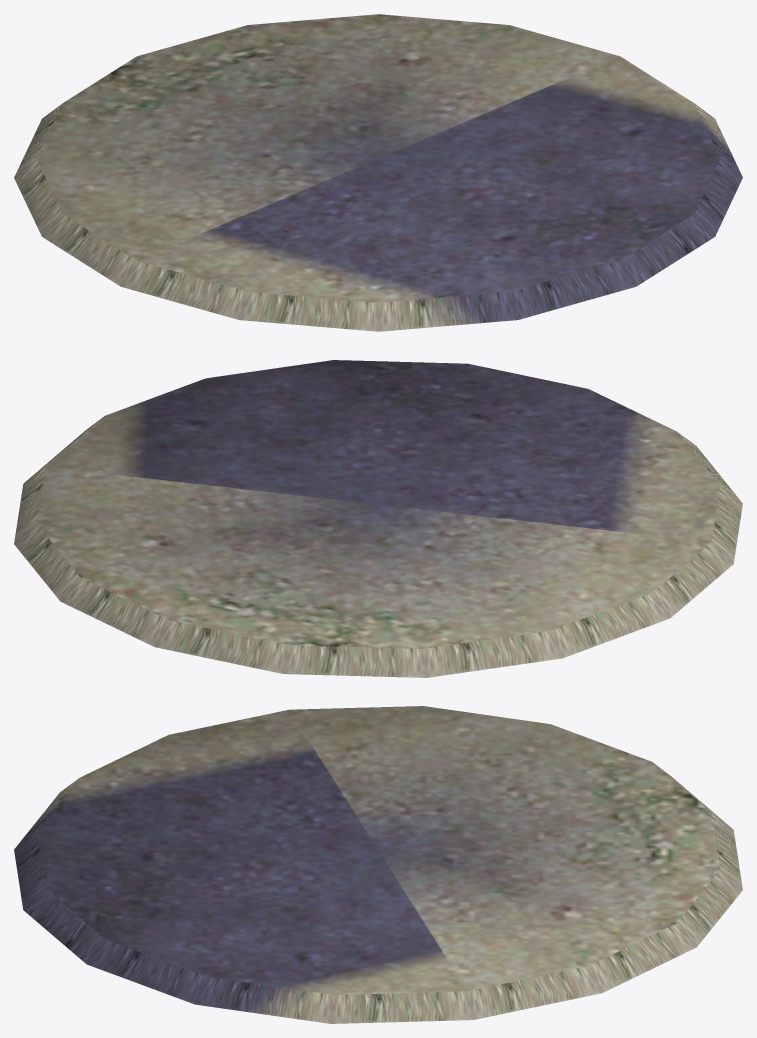
The picture shows the model from 3 angles, top to bottom: view 1: azimuth 30°, elevation 25°; view 2: azimuth 150°, elevation 25°; view 3: azimuth 270°, elevation 25°; orthographic projection.
Visible parts, largest first — view 1: Joint_0_Object_0; view 2: Joint_0_Object_0; view 3: Joint_0_Object_0.
Part boxes in pixels (bbox=[...]): Joint_0_Object_0: bbox=[14, 14, 742, 331]; Joint_0_Object_0: bbox=[14, 360, 742, 677]; Joint_0_Object_0: bbox=[14, 706, 742, 1023].
Bounding box in the file's own units: 332 × 9.78 × 332.
Materials: 1 (1 with a texture image).
